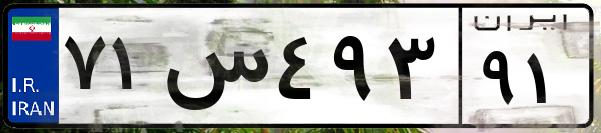1: (525, 38, 570, 115), (110, 28, 158, 98)
3: (385, 28, 445, 110)
4: (270, 28, 330, 110)
7: (57, 26, 110, 100)
9: (330, 28, 385, 110), (475, 38, 525, 113)
س: (158, 20, 270, 120)
